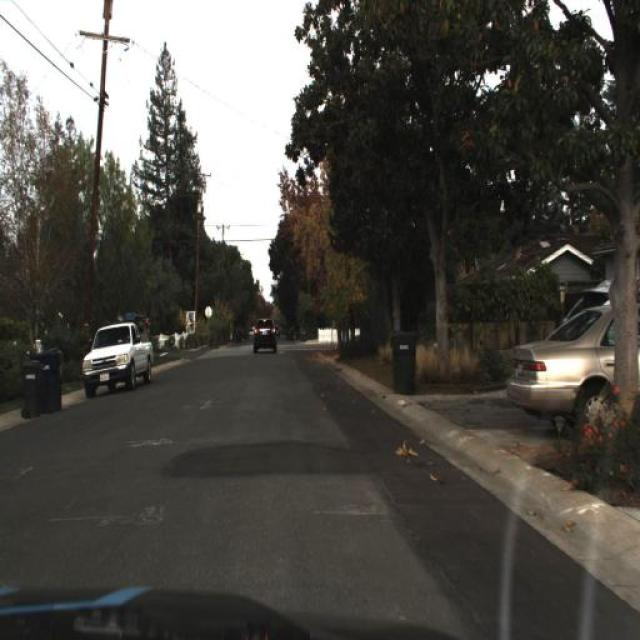car: (506, 302, 640, 438), (72, 316, 156, 402), (77, 307, 155, 399), (250, 313, 280, 359)
